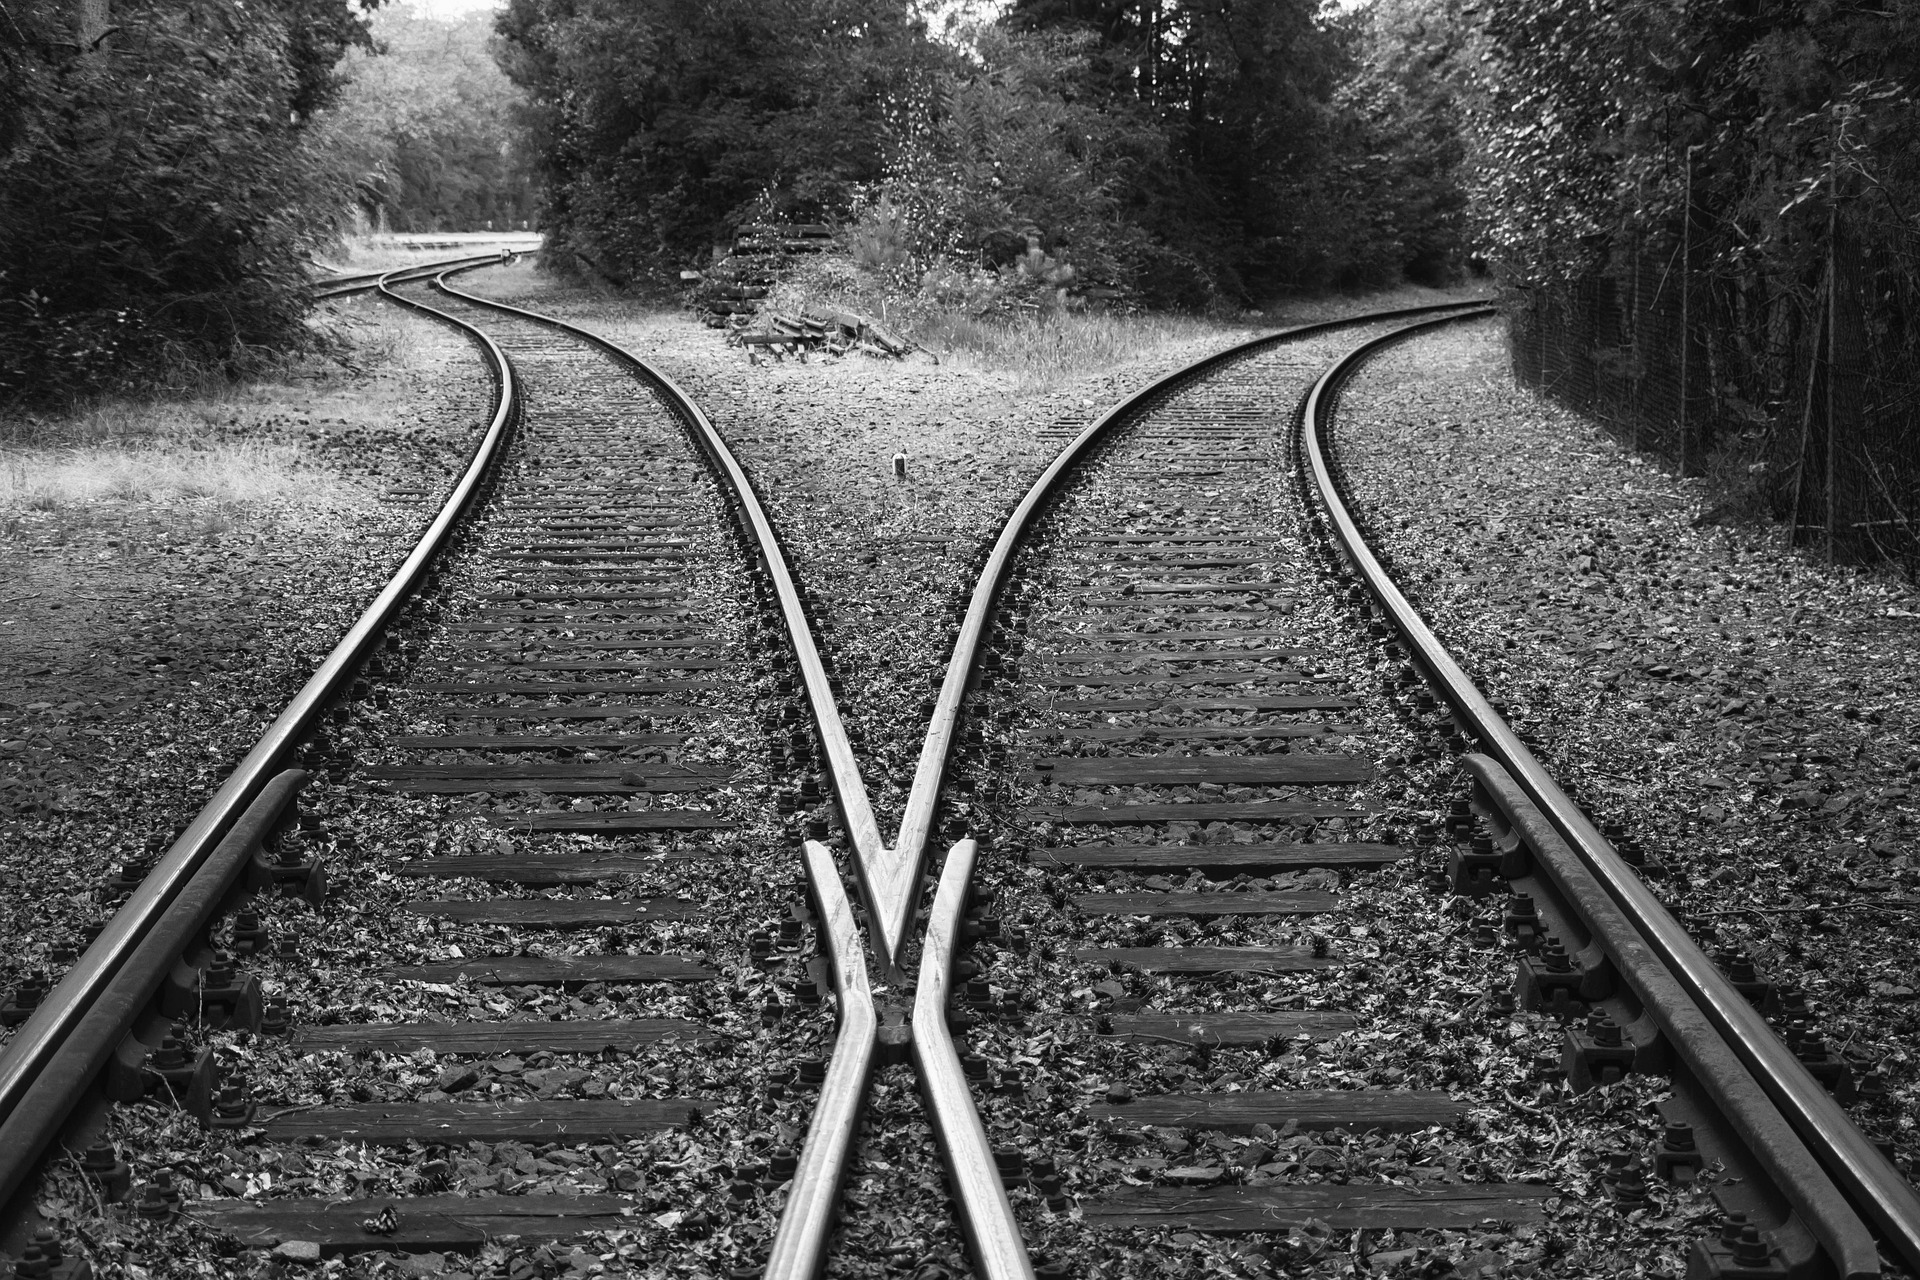voie1: (256, 280, 834, 746)
voie2: (914, 309, 1493, 736)
